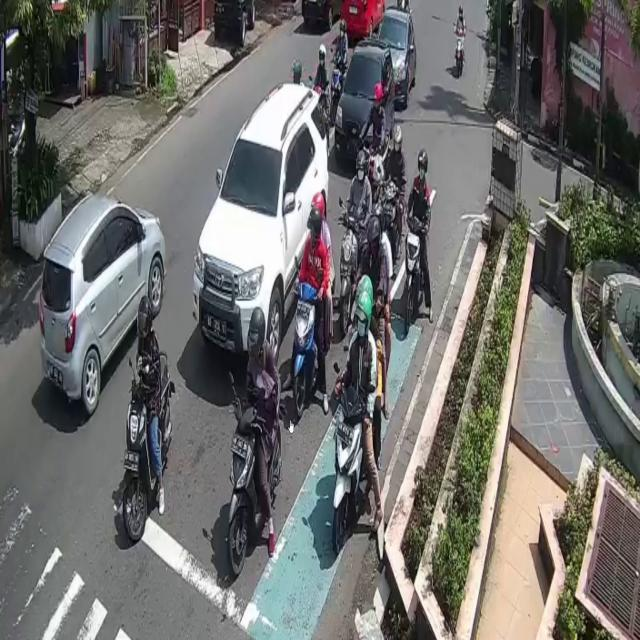car: (192, 80, 328, 374), (39, 193, 164, 412), (334, 39, 395, 177), (374, 5, 417, 107)
motorbike: (228, 375, 280, 578), (128, 350, 174, 541), (334, 386, 366, 552), (296, 280, 318, 417), (404, 213, 426, 335), (338, 216, 358, 335)
